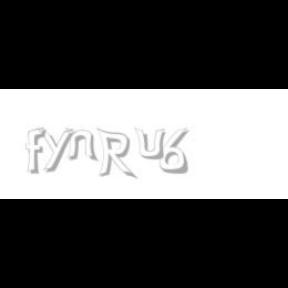6: (160, 128, 188, 176)
R: (96, 128, 134, 180)
f: (26, 128, 50, 174)
n: (65, 128, 99, 162)
u: (134, 128, 170, 160)
y: (38, 128, 78, 172)
